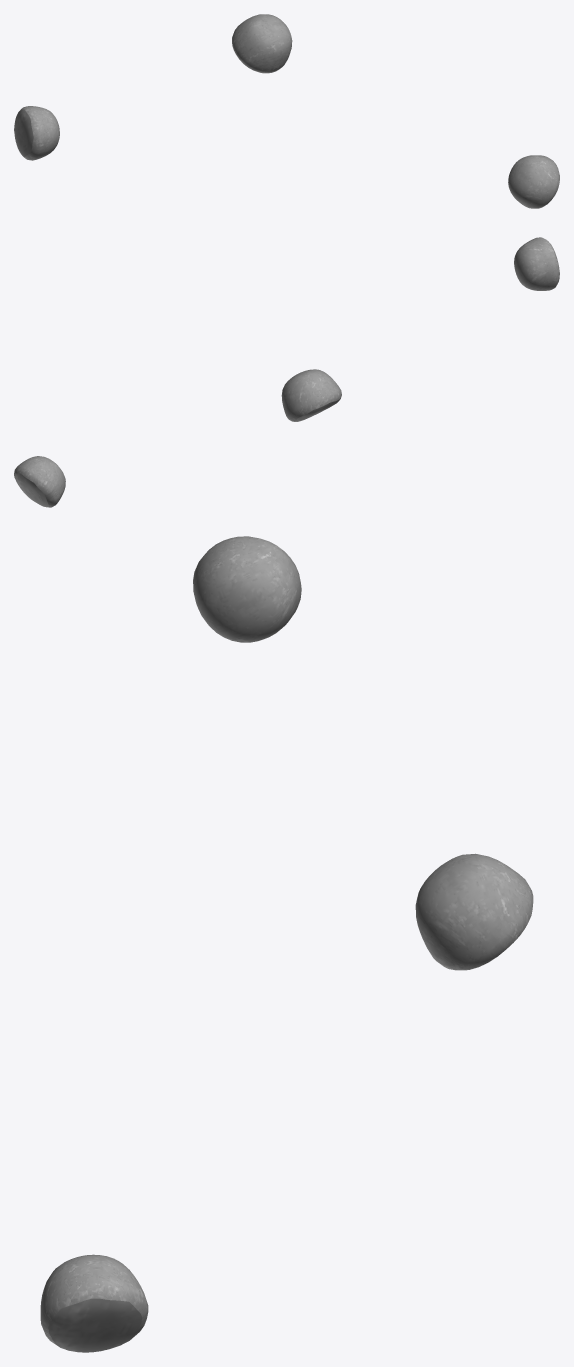
File: lighting (tnl_collapse_xmas).glb
3 views of the same model, one above another, from view 1: azimuth 30°, elevation 25°; view 2: azimuth 210°, elevation 25°; view 3: azimuth 270°, elevation 25° (orthographic). The views are drawn at different scales.
Parts seen in each view (by area): view 1: gumdrop_light_LOD0 (×3); view 2: gumdrop_light_LOD0 (×3); view 3: gumdrop_light_LOD0 (×3).
Boxes of the visible parts, left/top/right/bottom form: gumdrop_light_LOD0 (×3): left=14, top=14, right=559, bottom=208; gumdrop_light_LOD0 (×3): left=14, top=237, right=559, bottom=507; gumdrop_light_LOD0 (×3): left=40, top=536, right=533, bottom=1352.
Size of the model in its own units: 5.42 by 1.91 by 2.34.
Materials: 1 (1 with a texture image).
